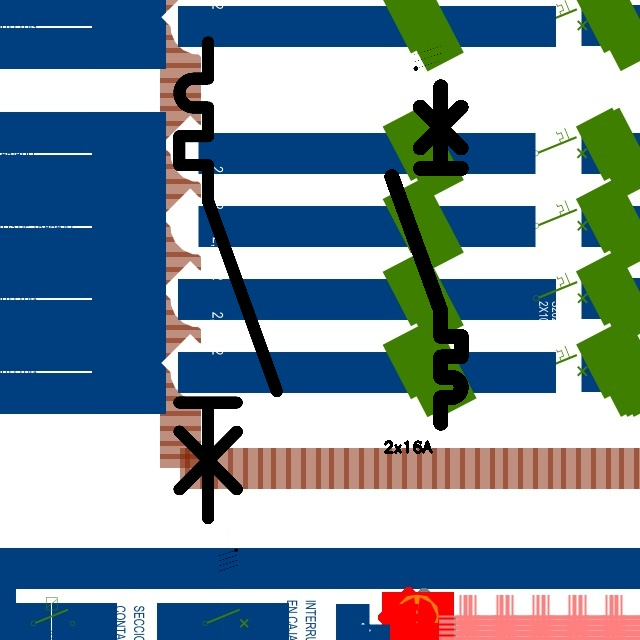interruptor_termomagnetico: (167, 30, 289, 530), (383, 78, 470, 432)
